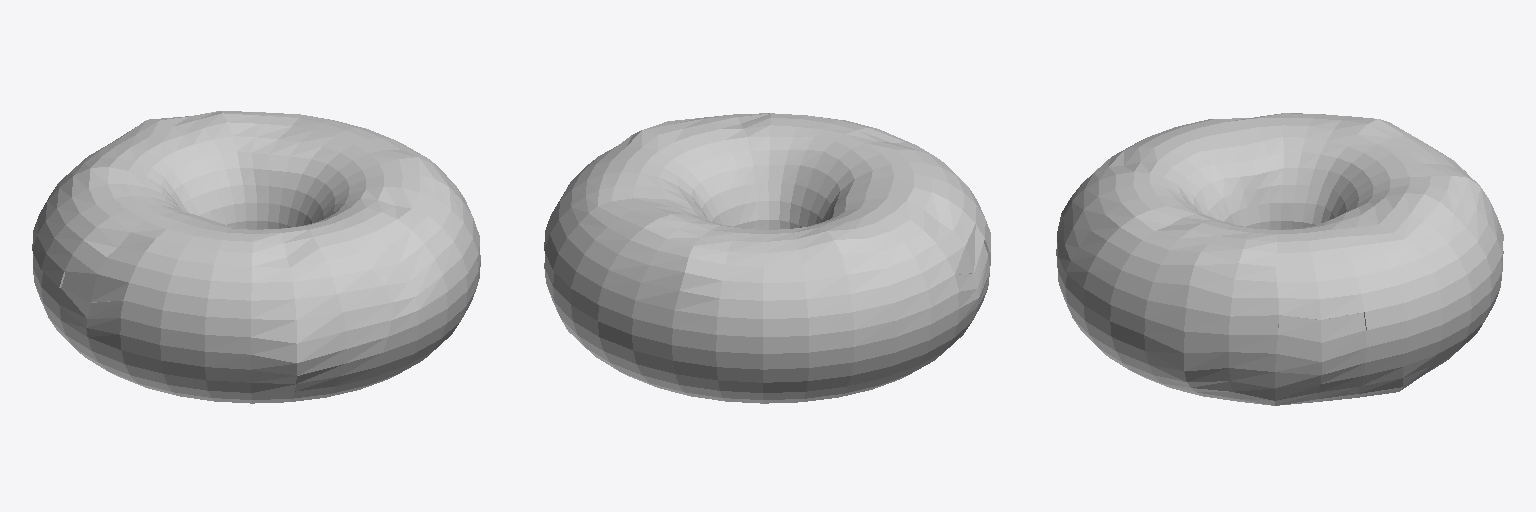
File: donut.obj
3 views of the same model, side by side, from view 1: azimuth 30°, elevation 25°; view 2: azimuth 150°, elevation 25°; view 3: azimuth 270°, elevation 25° (orthographic).
Parts seen in each view (by area): view 1: Torus.001_Torus.004, Torus.003; view 2: Torus.001_Torus.004, Torus.003; view 3: Torus.001_Torus.004, Torus.003.
Part boxes in pixels (x1,y1,x2,y2): Torus.001_Torus.004: (32,111,479,343); Torus.003: (33,221,480,403); Torus.001_Torus.004: (544,113,990,336); Torus.003: (544,220,990,403); Torus.001_Torus.004: (1057,113,1503,334); Torus.003: (1056,221,1503,405).
Bounding box in the file's own units: 1.64 × 0.6618 × 1.64.